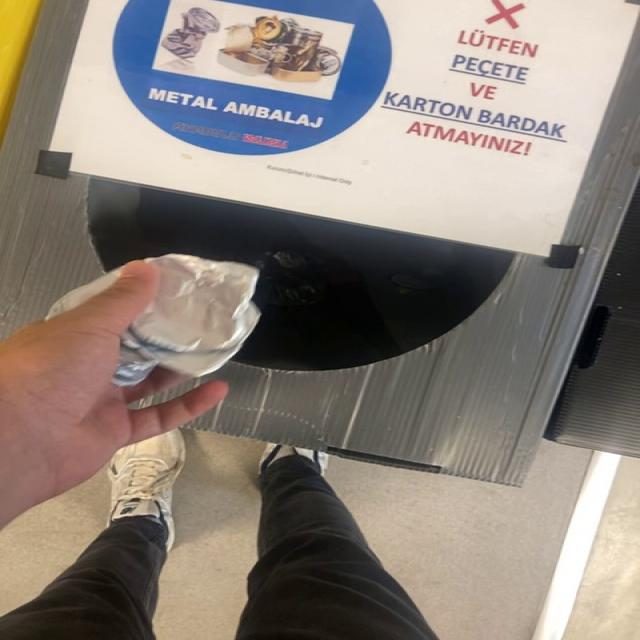bin: (3, 0, 640, 484)
metal: (113, 254, 260, 386), (49, 270, 119, 318)
